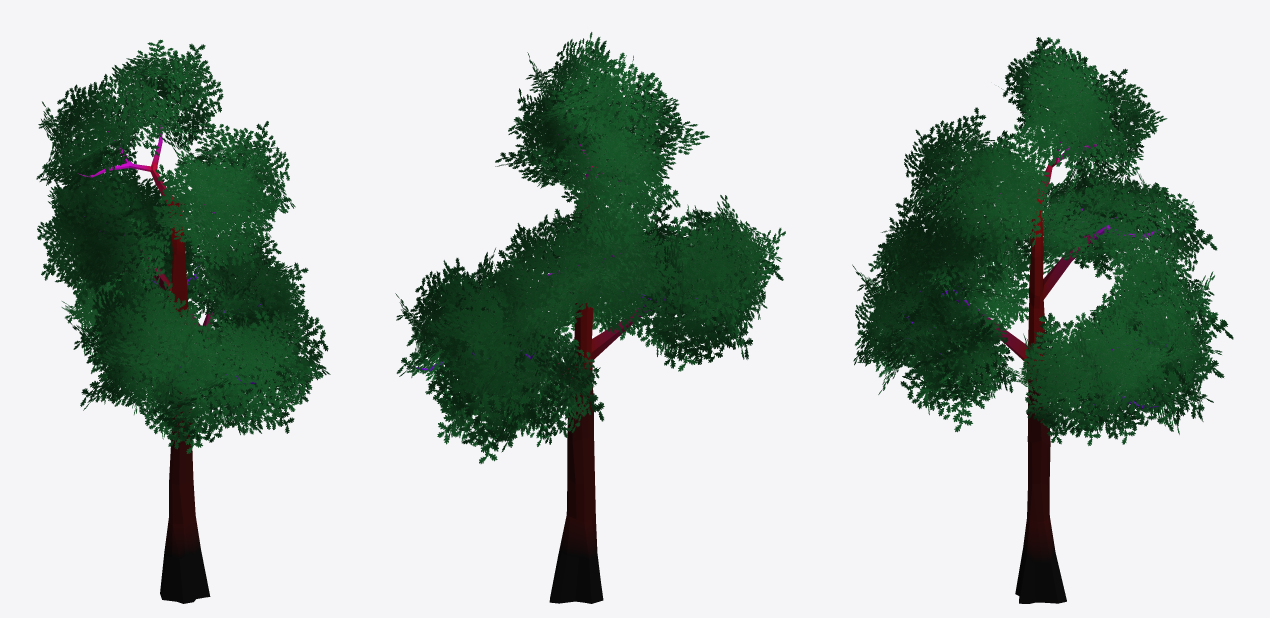
File: PT_Oak_Tree_03_green.fbx
3 views of the same model, side by side, from view 1: azimuth 30°, elevation 25°; view 2: azimuth 150°, elevation 25°; view 3: azimuth 270°, elevation 25° (orthographic). The views are drawn at different scales.
Parts seen in each view (by area): view 1: PT_Oak_Tree_03_green_LOD0; view 2: PT_Oak_Tree_03_green_LOD0; view 3: PT_Oak_Tree_03_green_LOD0.
Part boxes in pixels (box(x1,y1,x2,y2)): PT_Oak_Tree_03_green_LOD0: box(36, 39, 330, 603); PT_Oak_Tree_03_green_LOD0: box(395, 32, 785, 603); PT_Oak_Tree_03_green_LOD0: box(852, 37, 1233, 603).
Size of what is drawn, in the model's own units: 477 by 816 by 559.
